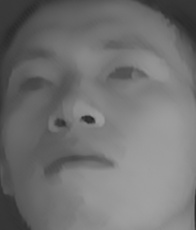eye: (101, 61, 146, 87), (12, 71, 54, 96)
mouth: (43, 141, 114, 182)
